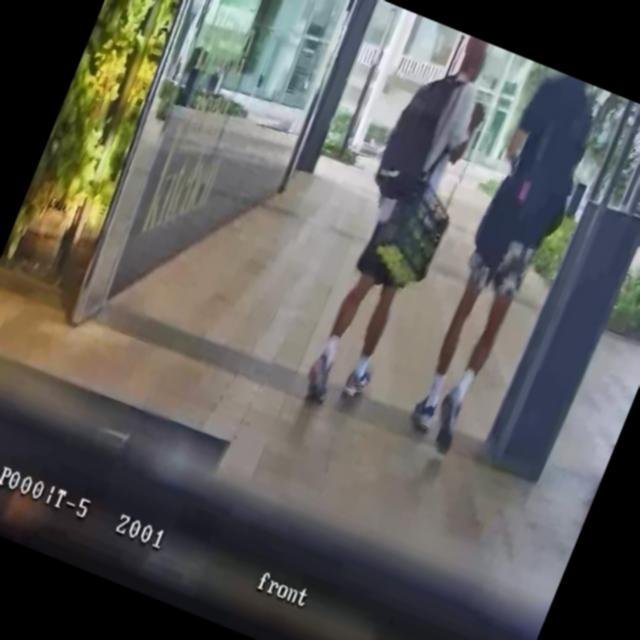person: (285, 22, 510, 422), (391, 65, 612, 462)
